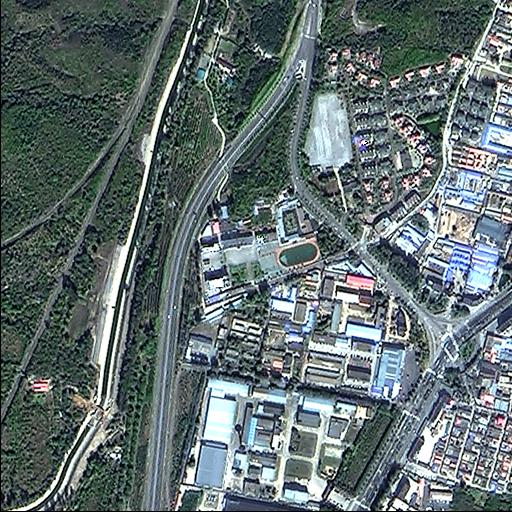school: (196, 227, 325, 314)
